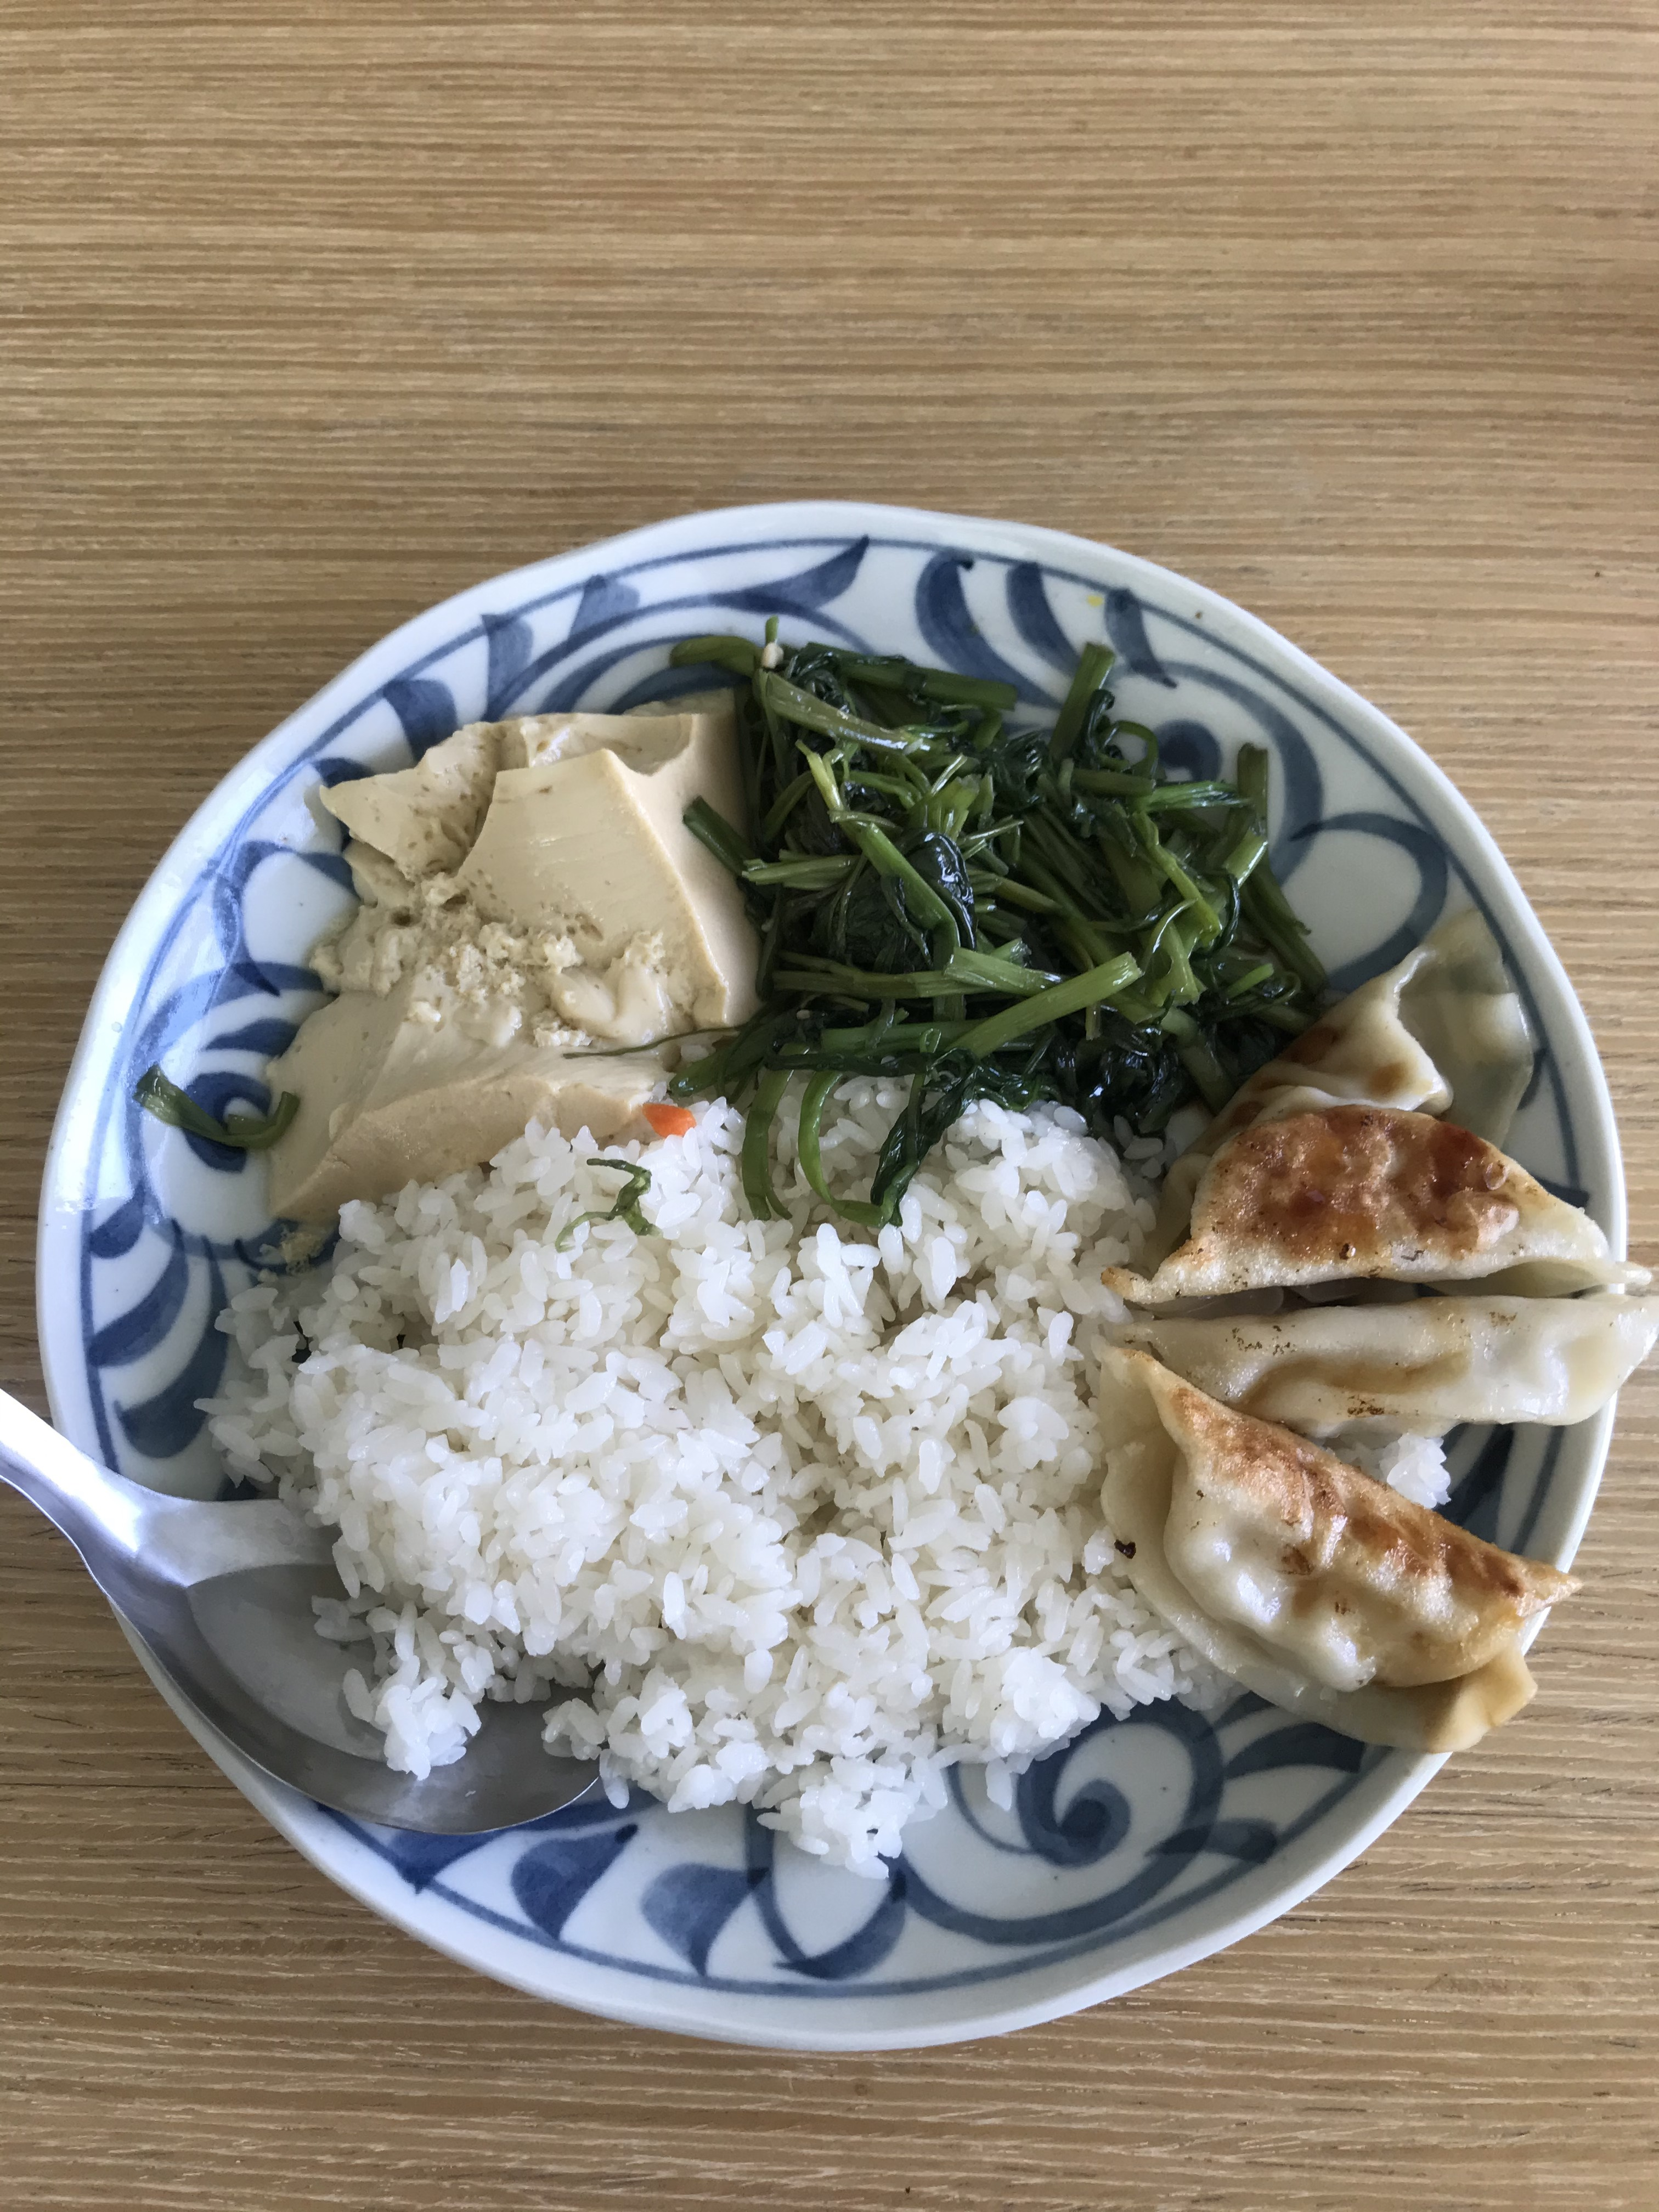fried_dumplings: (1188, 1108, 1586, 1717)
rice: (369, 1188, 1084, 1714)
water_spinach: (767, 697, 1277, 1078)
